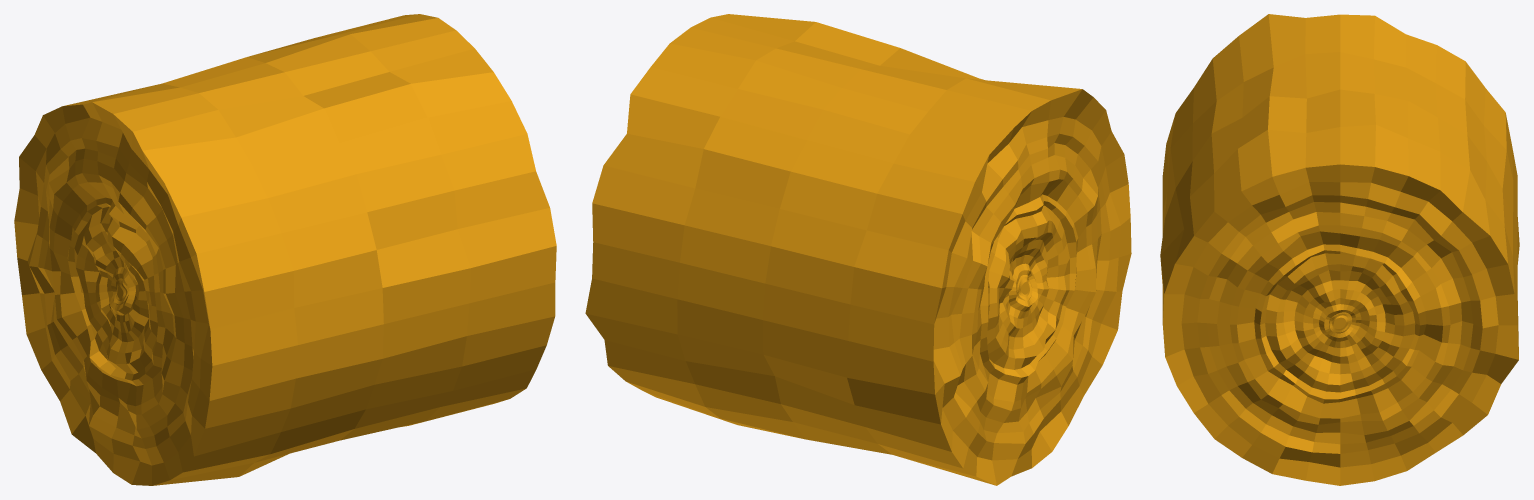
Rendered from Ballot de paille.fbx.
3 views of the same model, side by side, from view 1: azimuth 30°, elevation 25°; view 2: azimuth 150°, elevation 25°; view 3: azimuth 270°, elevation 25° (orthographic). The views are drawn at different scales.
Visible parts, largest first — view 1: Cylinder; view 2: Cylinder; view 3: Cylinder.
Part boxes in pixels (bbox=[...]): Cylinder: bbox=[14, 14, 556, 485]; Cylinder: bbox=[585, 14, 1131, 485]; Cylinder: bbox=[1160, 14, 1519, 485].
Size of the model in its own units: 212 by 201 by 203.
